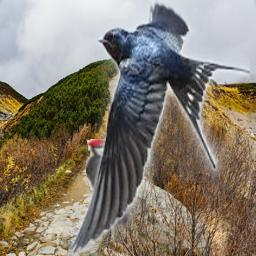Swallow: (68, 0, 250, 256)
Woodpecker: (86, 139, 150, 233)
